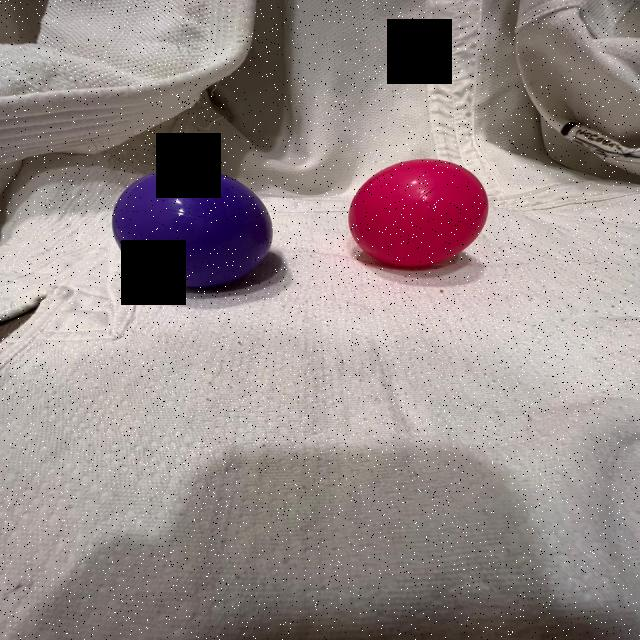ball: (110, 167, 276, 290), (347, 157, 493, 270)
